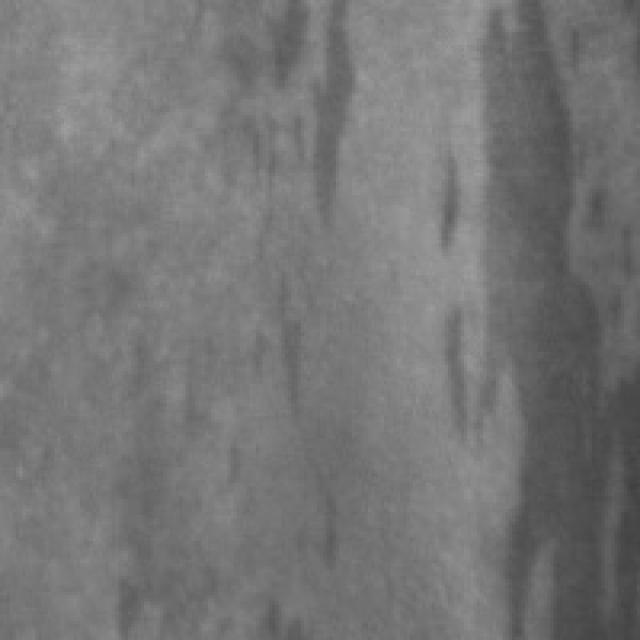inclusion: (431, 0, 630, 630), (102, 330, 266, 630), (211, 0, 352, 234), (256, 262, 314, 420), (294, 451, 346, 573)
